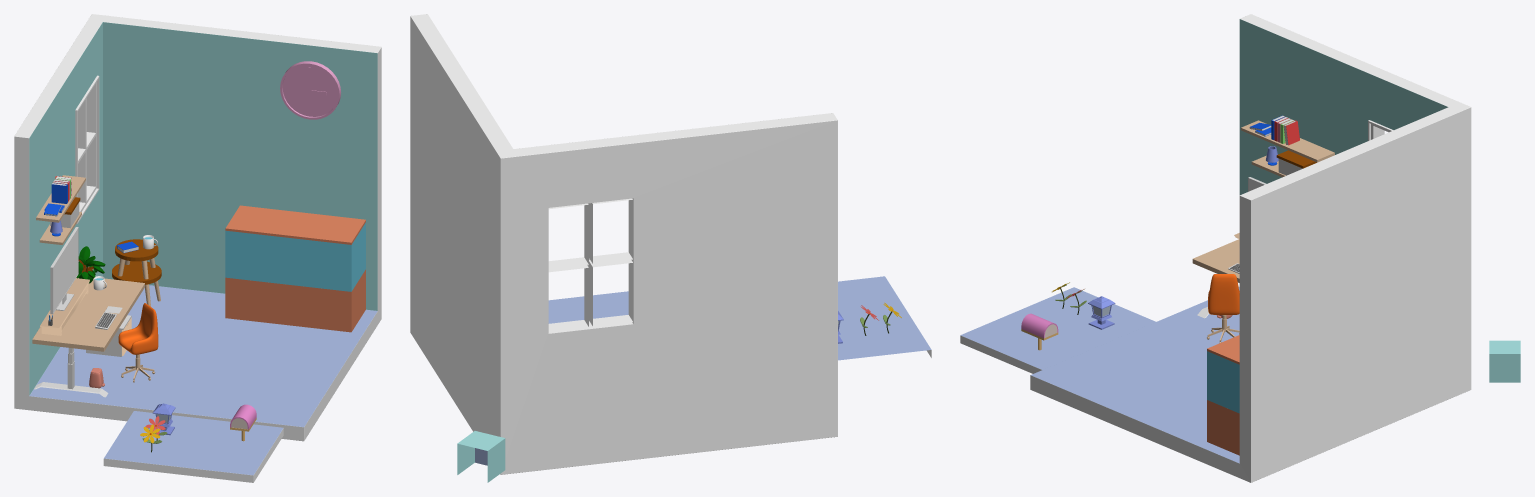
Rendered from FinaleVersion2.glb.
3 views of the same model, side by side, from view 1: azimuth 30°, elevation 25°; view 2: azimuth 150°, elevation 25°; view 3: azimuth 270°, elevation 25° (orthographic). The views are drawn at different scales.
Parts seen in each view (by area): view 1: Body, Aquarium, Mini Floor, Desks, Clock, Table stuff, Shelves, Computer, Chair, Floor items, Mailbox, Lamp; view 2: Body, Mini Floor, Cube.101; view 3: Body, Mini Floor, Aquarium, Shelves, Cube.101, Chair, Desks, Mailbox, Lamp.
Boxes of the visible parts, <box> form: Body: <box>14,14,381,441</box>; Aquarium: <box>225,205,365,332</box>; Mini Floor: <box>103,411,283,482</box>; Desks: <box>32,239,161,397</box>; Clock: <box>280,61,341,119</box>; Table stuff: <box>40,235,157,335</box>; Shelves: <box>36,175,85,244</box>; Computer: <box>50,227,78,314</box>; Chair: <box>118,303,158,354</box>; Floor items: <box>86,315,155,388</box>; Mailbox: <box>230,404,256,441</box>; Lamp: <box>152,403,175,435</box>; Body: <box>410,14,837,474</box>; Mini Floor: <box>838,276,931,360</box>; Cube.101: <box>457,431,505,482</box>; Body: <box>1030,14,1471,482</box>; Mini Floor: <box>960,287,1155,373</box>; Aquarium: <box>1207,335,1239,455</box>; Shelves: <box>1241,115,1334,177</box>; Cube.101: <box>1489,340,1520,382</box>; Chair: <box>1208,274,1239,314</box>; Desks: <box>1192,239,1239,318</box>; Mailbox: <box>1021,313,1058,350</box>; Lamp: <box>1088,296,1115,329</box>.
Bounding box in the file's own units: 28.04 × 19.83 × 35.64.
